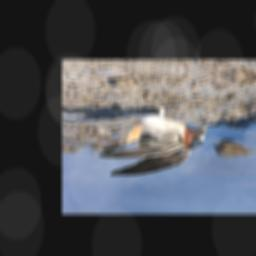Swallow: (97, 93, 210, 185)
